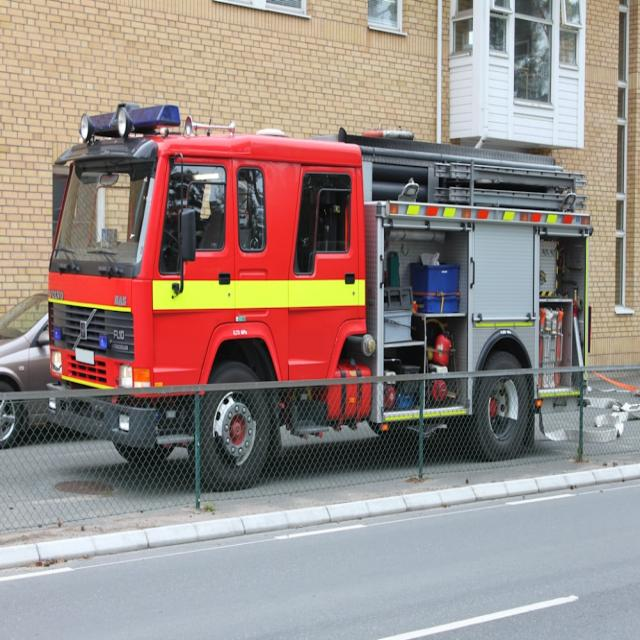emergency: (49, 105, 592, 388)
